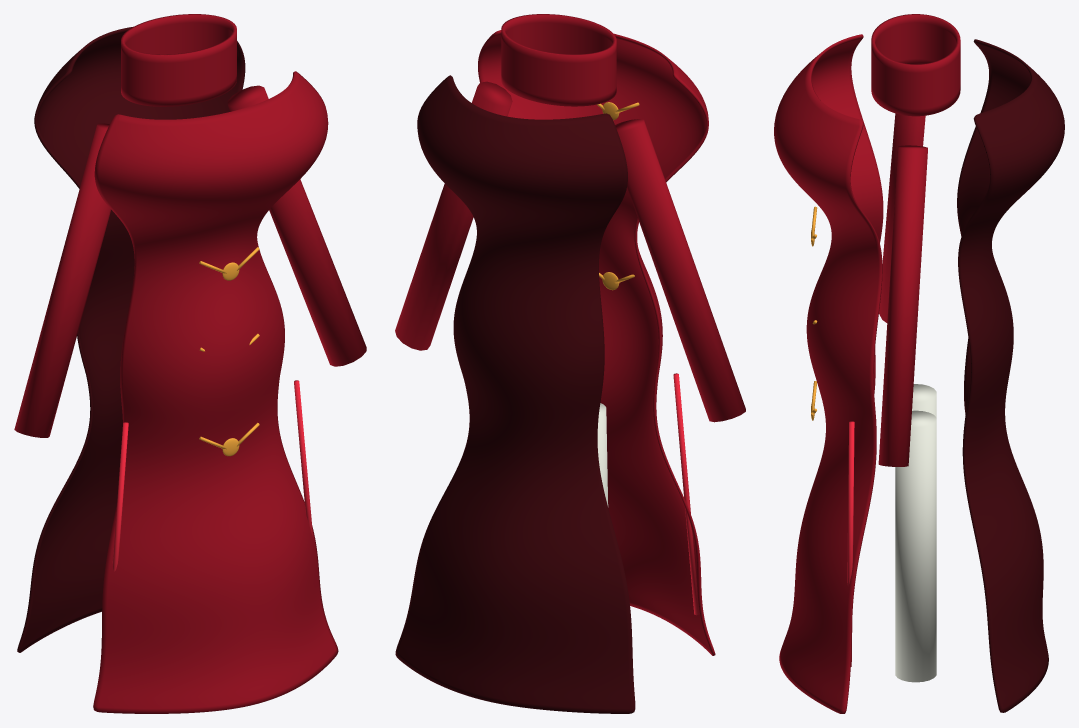
The model's file is BL_AODAI_002.obj.
3 views of the same model, side by side, from view 1: azimuth 30°, elevation 25°; view 2: azimuth 150°, elevation 25°; view 3: azimuth 270°, elevation 25° (orthographic).
Parts seen in each view (by area): view 1: front_ao_dai_panel, back_ao_dai_panel, silk_sleeve, structured_high_collar, silk_sleeve.001, side_slit_piping, side_slit_piping.002; view 2: back_ao_dai_panel, front_ao_dai_panel, silk_sleeve, structured_high_collar, silk_sleeve.001, side_slit_piping, ivory_trouser_leg; view 3: front_ao_dai_panel, back_ao_dai_panel, ivory_trouser_leg.001, silk_sleeve.001, structured_high_collar, silk_sleeve, side_slit_piping.002, ivory_trouser_leg.
Part boxes in pixels (x1,y1,x2,y2): front_ao_dai_panel: [93, 71, 338, 713]; back_ao_dai_panel: [17, 26, 245, 652]; silk_sleeve: [14, 123, 111, 437]; structured_high_collar: [121, 14, 236, 106]; silk_sleeve.001: [227, 85, 366, 366]; side_slit_piping: [112, 422, 128, 571]; side_slit_piping.002: [294, 380, 313, 537]; back_ao_dai_panel: [395, 75, 635, 713]; front_ao_dai_panel: [478, 30, 715, 655]; silk_sleeve: [615, 119, 745, 422]; structured_high_collar: [501, 14, 616, 106]; silk_sleeve.001: [395, 81, 512, 350]; side_slit_piping: [673, 373, 699, 615]; ivory_trouser_leg: [597, 403, 608, 507]; front_ao_dai_panel: [774, 34, 883, 713]; back_ao_dai_panel: [957, 39, 1064, 712]; ivory_trouser_leg.001: [895, 410, 936, 682]; silk_sleeve.001: [878, 145, 927, 466]; structured_high_collar: [871, 14, 960, 116]; silk_sleeve: [879, 113, 925, 322]; side_slit_piping.002: [847, 421, 854, 666]; ivory_trouser_leg: [912, 384, 936, 417].
Bounding box in the file's own units: 1.44 × 2.45 × 1.04.
